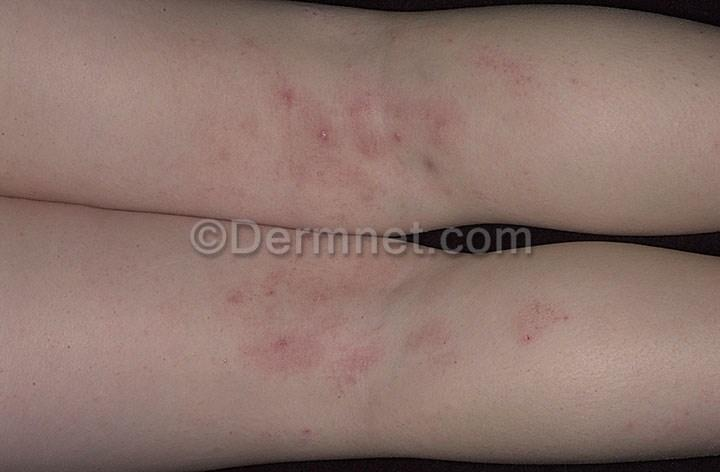eritema 1: (217, 59, 467, 412)
xerosis 1: (257, 1, 716, 469)
